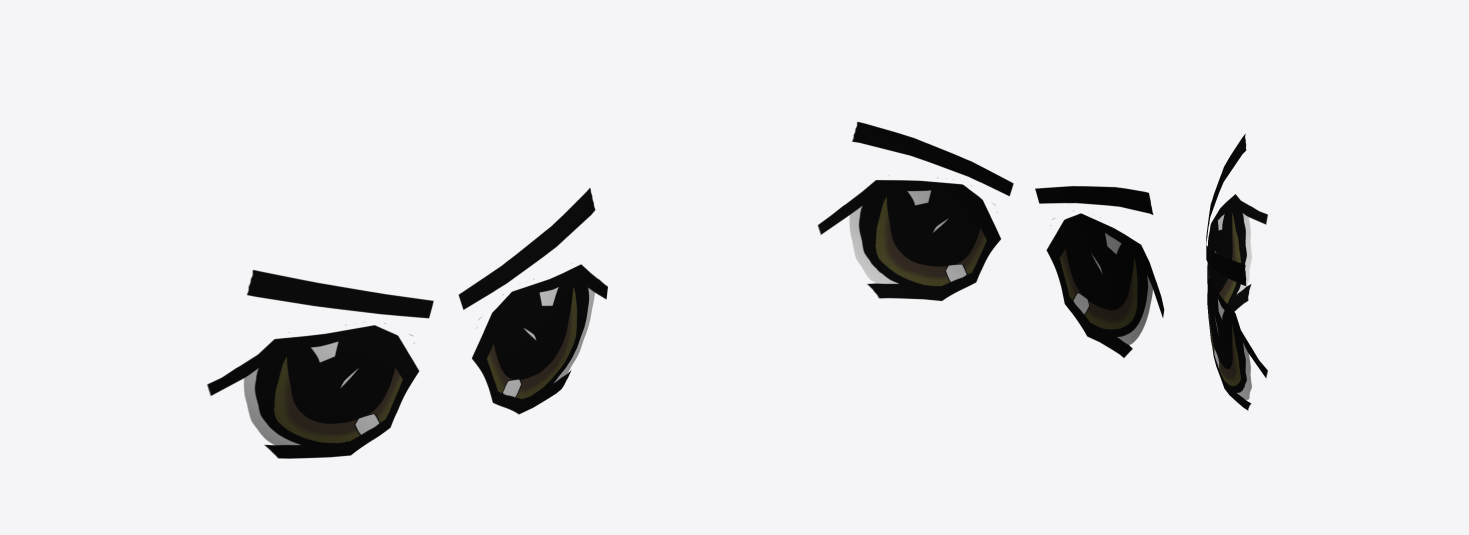
File: Remilio_Brown.glb
3 renders of one model, left to right at view 1: azimuth 30°, elevation 25°; view 2: azimuth 150°, elevation 25°; view 3: azimuth 270°, elevation 25°, orthographic. The views are drawn at different scales.
Parts seen in each view (by area): view 1: Remilio_Brown; view 2: Remilio_Brown; view 3: Remilio_Brown.
Part boxes in pixels (x1,y1,x2,y2): Remilio_Brown: [207, 188, 607, 458]; Remilio_Brown: [817, 122, 1164, 357]; Remilio_Brown: [1206, 134, 1267, 410].
Bounding box in the file's own units: 0.8827 × 0.6239 × 0.4009.
Materials: 1 (1 with a texture image).
